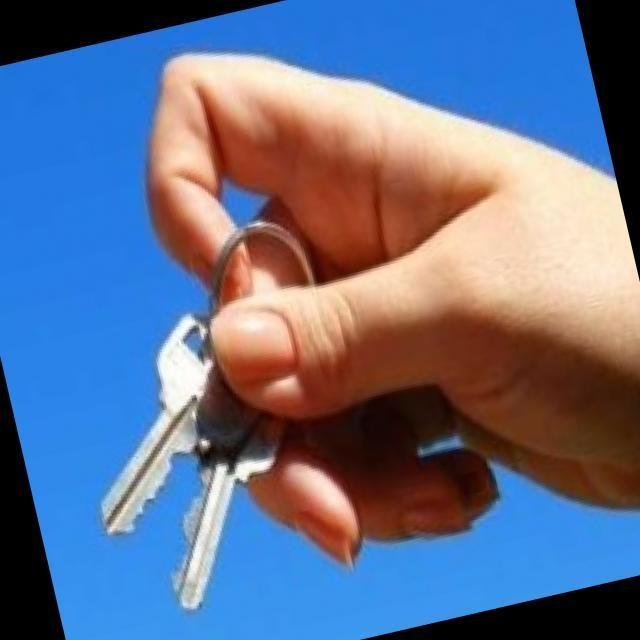Keys: (102, 222, 314, 610), (175, 370, 278, 610), (101, 314, 210, 534)
